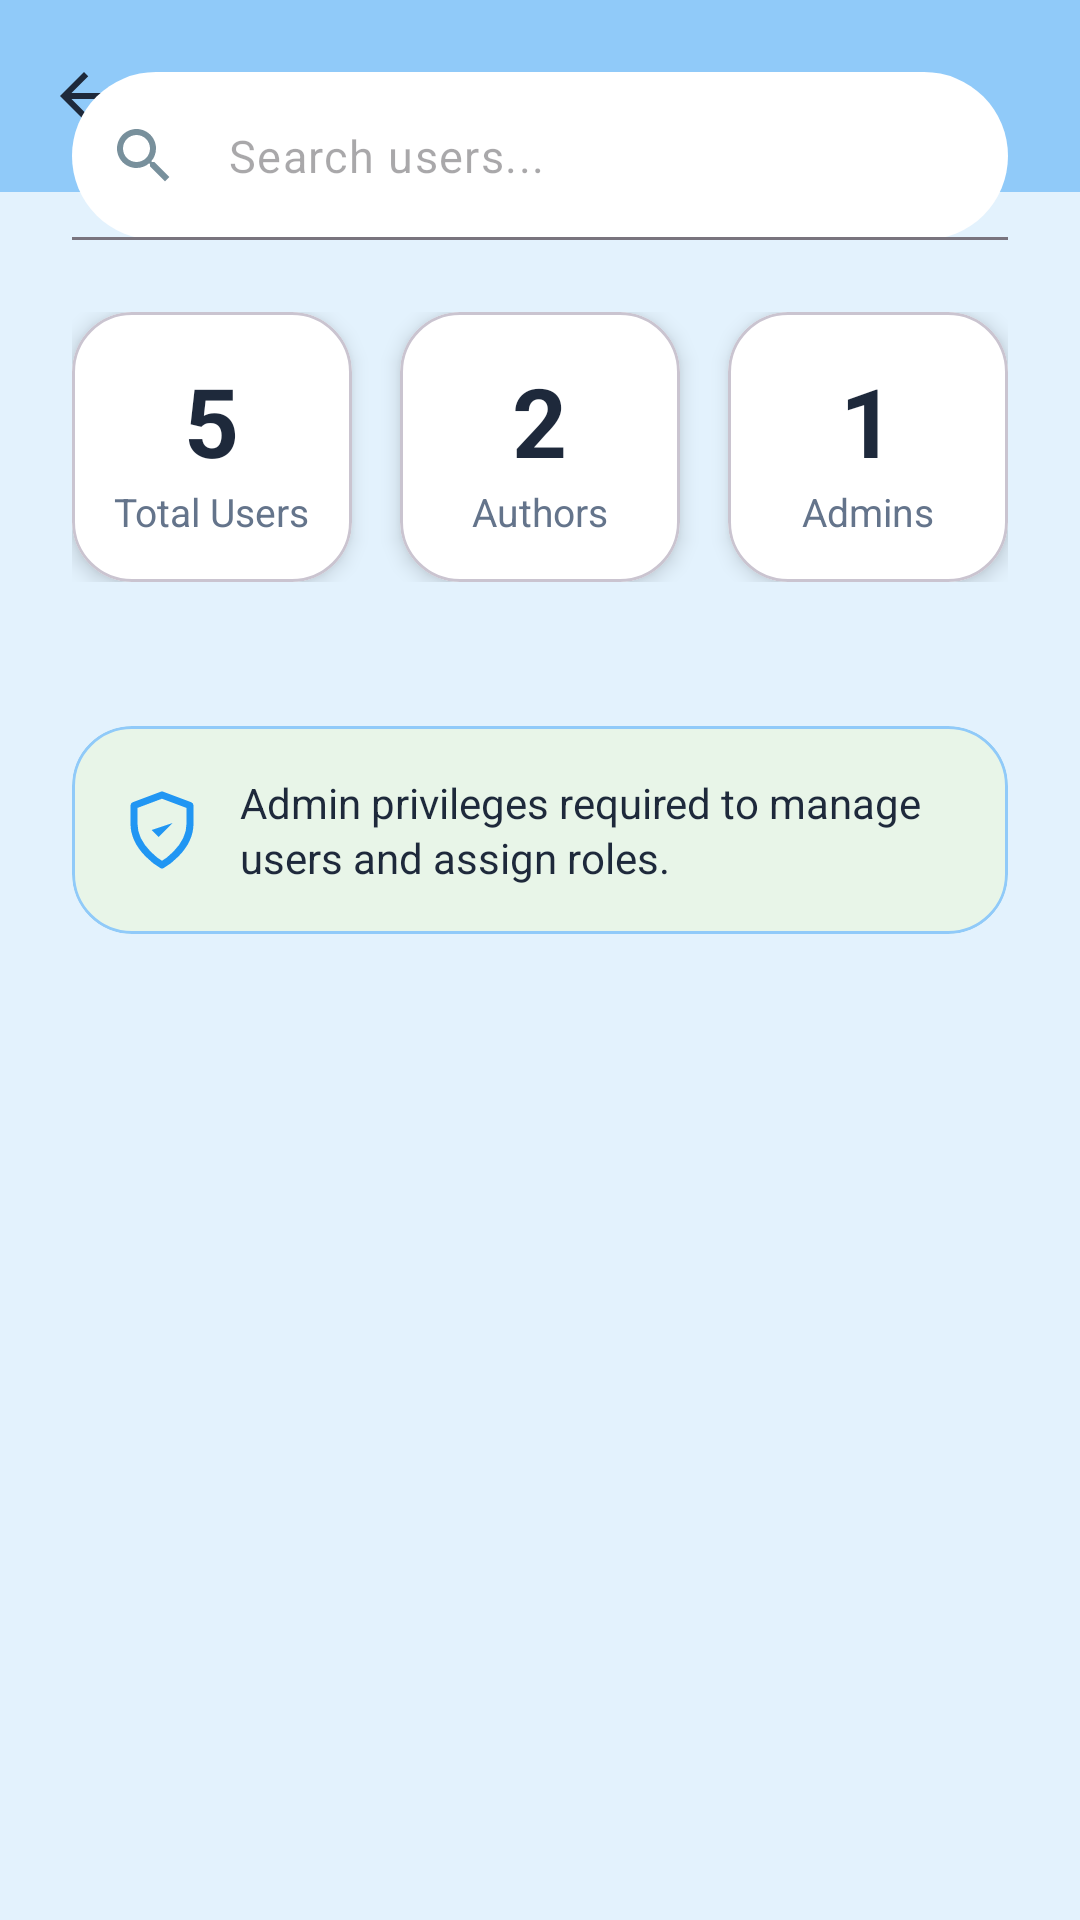

Point at icon controls on the screen. Image size 1080px×1920px, points as (x,y).
shield: (162,830)
